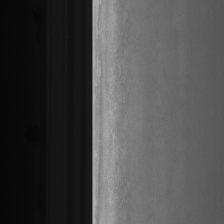silk_spot: (104, 30, 132, 159)
